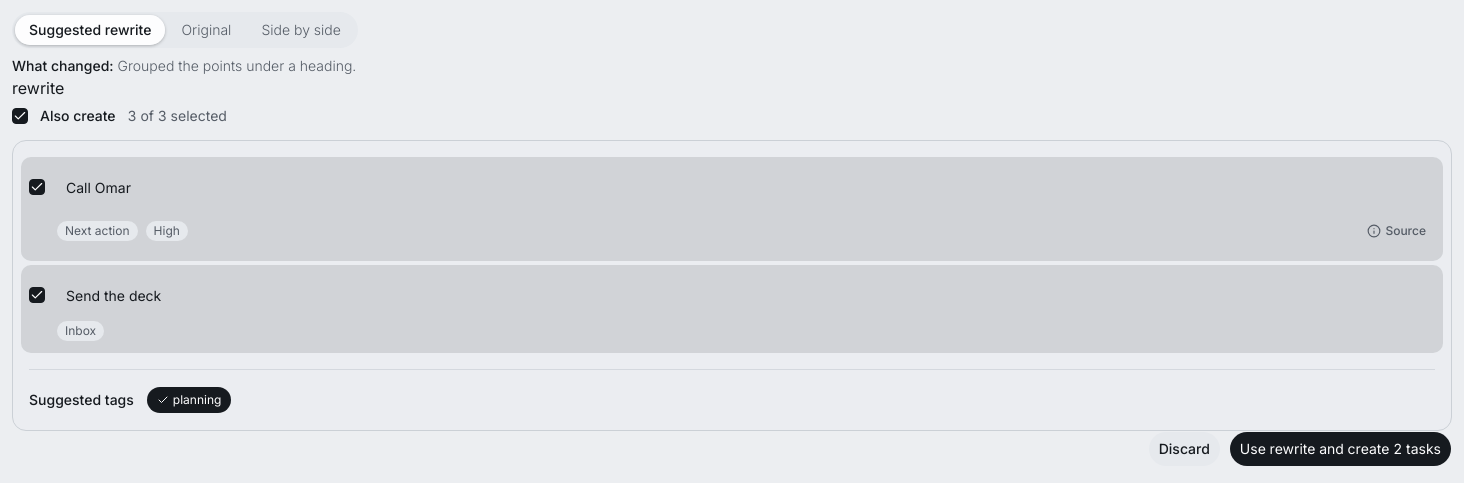
Test: review surface › NOTES-B18 the header switches the view, stays silent while the proposal can be kept, and shows the summary in full
The image size is (1464, 483).
Click the button "Original": (206, 30) top-left (166, 14), bottom-right (246, 46)
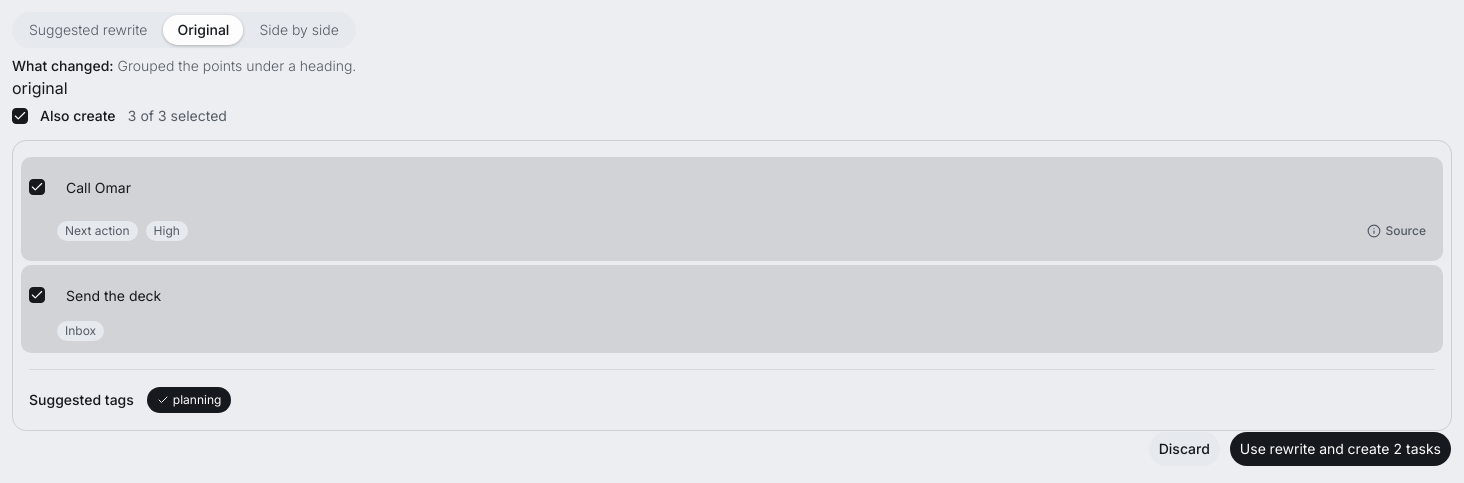
Check: the text "What changed:Grouped the points under a heading." is shown, box top-left (12, 57), bottom-right (356, 74)
Check: the text "original" is shown, box top-left (12, 78), bottom-right (68, 98)
